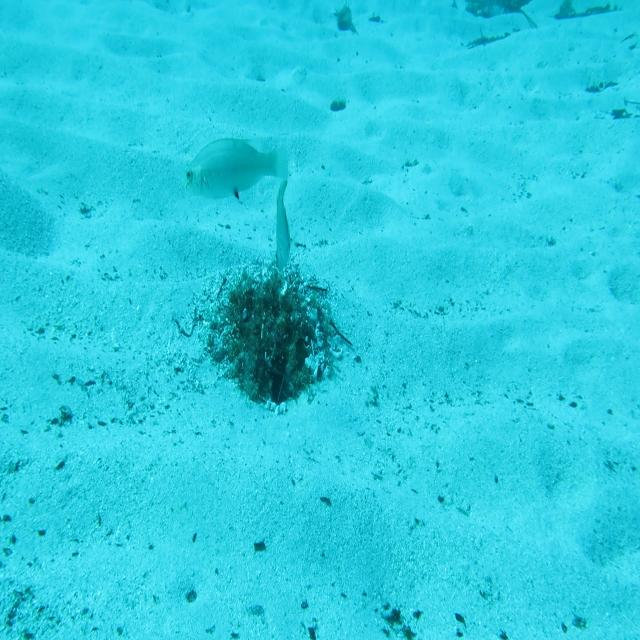H_DOWN: (264, 166, 298, 302)
female: (180, 123, 295, 216)
nest: (186, 257, 338, 415)
